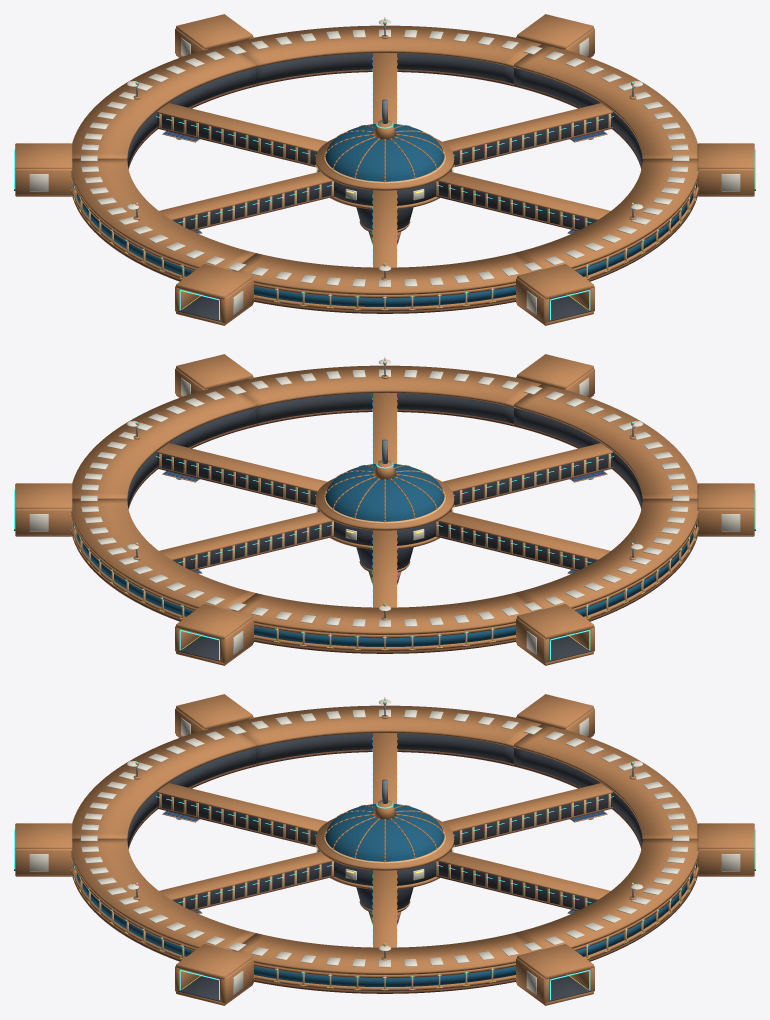
The model's file is orbital_station.glb.
3 renders of one model, top to bottom at view 1: azimuth 30°, elevation 25°; view 2: azimuth 150°, elevation 25°; view 3: azimuth 270°, elevation 25°, orthographic.
Visible parts, largest first — view 1: Ring_4_Root, Ring_1_Root, Ring_3_Root, Ring_0_Root, Ring_5_Root, Ring_2_Root, Hub_Root, Spoke_0_Root, Spoke_2_Root, Spoke_3_Root, Spoke_5_Root, Dock_3_Root (+7 smaller); view 2: Ring_2_Root, Ring_5_Root, Ring_1_Root, Ring_0_Root, Ring_4_Root, Ring_3_Root, Hub_Root, Spoke_0_Root, Spoke_4_Root, Spoke_1_Root, Spoke_3_Root, Dock_1_Root (+7 smaller); view 3: Ring_0_Root, Ring_3_Root, Ring_2_Root, Ring_1_Root, Ring_5_Root, Ring_4_Root, Hub_Root, Spoke_2_Root, Spoke_4_Root, Spoke_1_Root, Spoke_5_Root, Dock_0_Root (+7 smaller).
Part boxes in pixels (x1=…): Ring_4_Root: x1=228, y1=253, x2=542, y2=313; Ring_1_Root: x1=228, y1=25, x2=541, y2=86; Ring_3_Root: x1=71, y1=156, x2=255, y2=281; Ring_0_Root: x1=514, y1=44, x2=697, y2=168; Ring_5_Root: x1=514, y1=156, x2=698, y2=281; Ring_2_Root: x1=72, y1=44, x2=255, y2=168; Hub_Root: x1=315, y1=99, x2=454, y2=244; Spoke_0_Root: x1=442, y1=103, x2=613, y2=167; Spoke_2_Root: x1=156, y1=103, x2=327, y2=167; Spoke_3_Root: x1=159, y1=171, x2=333, y2=230; Spoke_5_Root: x1=436, y1=171, x2=610, y2=230; Dock_3_Root: x1=175, y1=264, x2=253, y2=325; Ring_2_Root: x1=228, y1=593, x2=542, y2=653; Ring_5_Root: x1=228, y1=365, x2=541, y2=426; Ring_1_Root: x1=71, y1=496, x2=255, y2=621; Ring_0_Root: x1=72, y1=384, x2=255, y2=508; Ring_4_Root: x1=514, y1=384, x2=697, y2=508; Ring_3_Root: x1=514, y1=496, x2=698, y2=621; Hub_Root: x1=315, y1=439, x2=454, y2=584; Spoke_0_Root: x1=156, y1=443, x2=327, y2=507; Spoke_4_Root: x1=442, y1=443, x2=613, y2=507; Spoke_1_Root: x1=159, y1=511, x2=333, y2=570; Spoke_3_Root: x1=436, y1=511, x2=610, y2=570; Dock_1_Root: x1=175, y1=604, x2=253, y2=665; Ring_0_Root: x1=227, y1=933, x2=542, y2=993; Ring_3_Root: x1=228, y1=705, x2=541, y2=766; Ring_2_Root: x1=514, y1=724, x2=697, y2=848; Ring_1_Root: x1=514, y1=836, x2=698, y2=961; Ring_5_Root: x1=71, y1=836, x2=255, y2=961; Ring_4_Root: x1=72, y1=724, x2=255, y2=848; Hub_Root: x1=315, y1=779, x2=454, y2=924; Spoke_2_Root: x1=442, y1=783, x2=613, y2=847; Spoke_4_Root: x1=156, y1=783, x2=327, y2=847; Spoke_1_Root: x1=436, y1=851, x2=610, y2=910; Spoke_5_Root: x1=159, y1=851, x2=333, y2=910; Dock_0_Root: x1=516, y1=944, x2=594, y2=1005.
Size of the model in its own units: 280 by 67.5 by 311.
